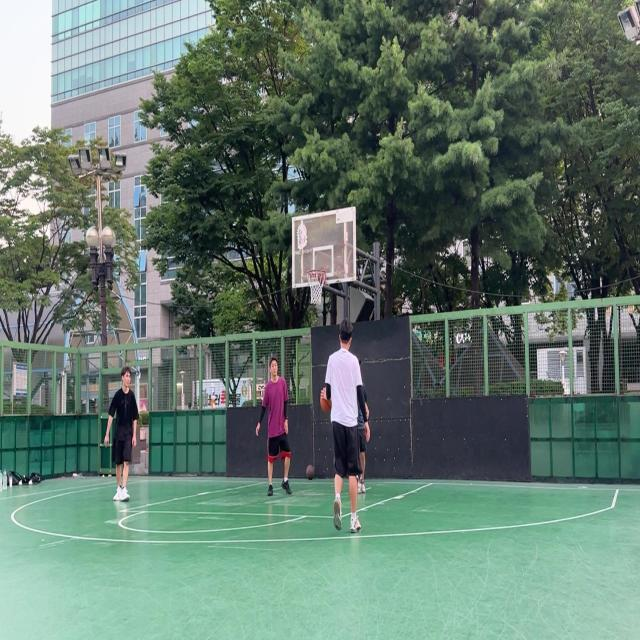basketball: (320, 387, 332, 412), (306, 464, 315, 480)
hoop: (306, 270, 326, 305)
